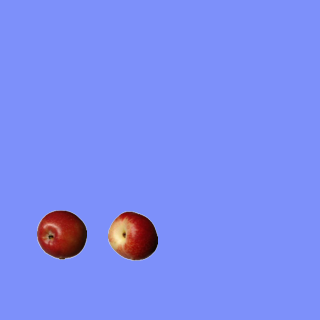Apple Braeburn: (36, 209, 86, 259)
Nectarine: (107, 210, 157, 260)
